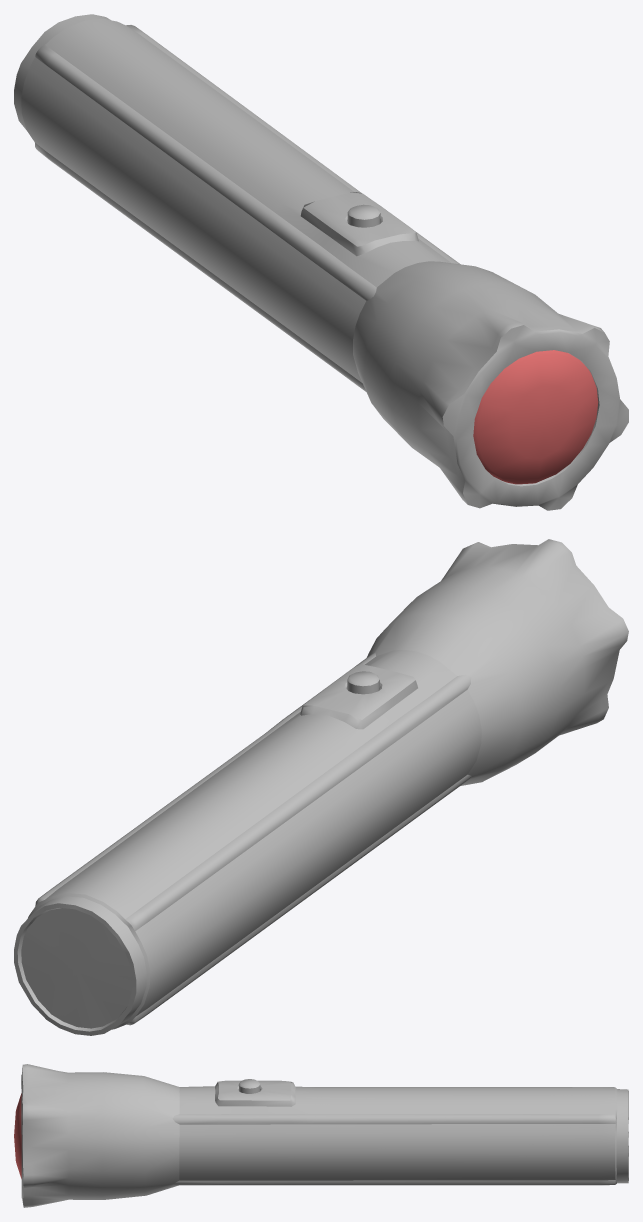
Rendered from flashlight.fbx.
3 views of the same model, one above another, from view 1: azimuth 30°, elevation 25°; view 2: azimuth 150°, elevation 25°; view 3: azimuth 270°, elevation 25° (orthographic). The views are drawn at different scales.
Parts seen in each view (by area): view 1: Flashlight; view 2: Flashlight; view 3: Flashlight.
Boxes of the visible parts, <box> form: Flashlight: <box>14,14,628,510</box>; Flashlight: <box>14,539,628,1035</box>; Flashlight: <box>14,1064,628,1207</box>.
Size of the model in its own units: 36.28 by 36.21 by 158.
